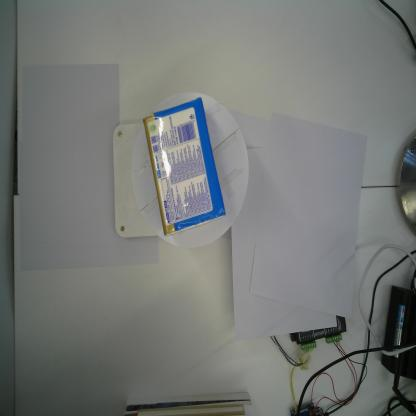Tissue: (141, 95, 227, 239)
